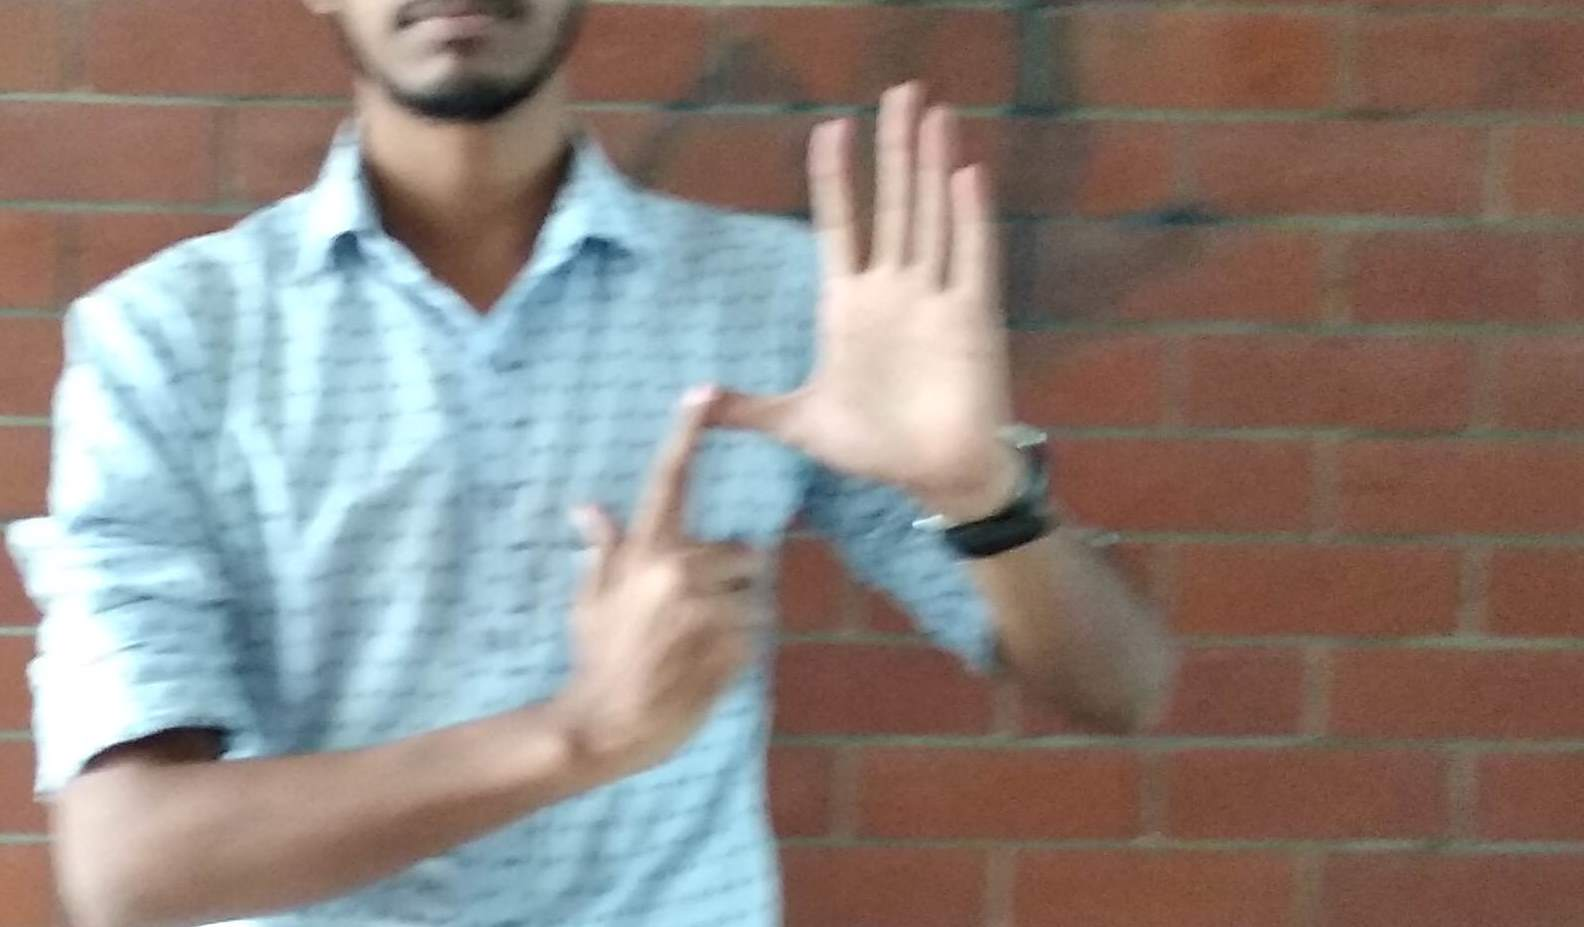a: (561, 162, 982, 725)
